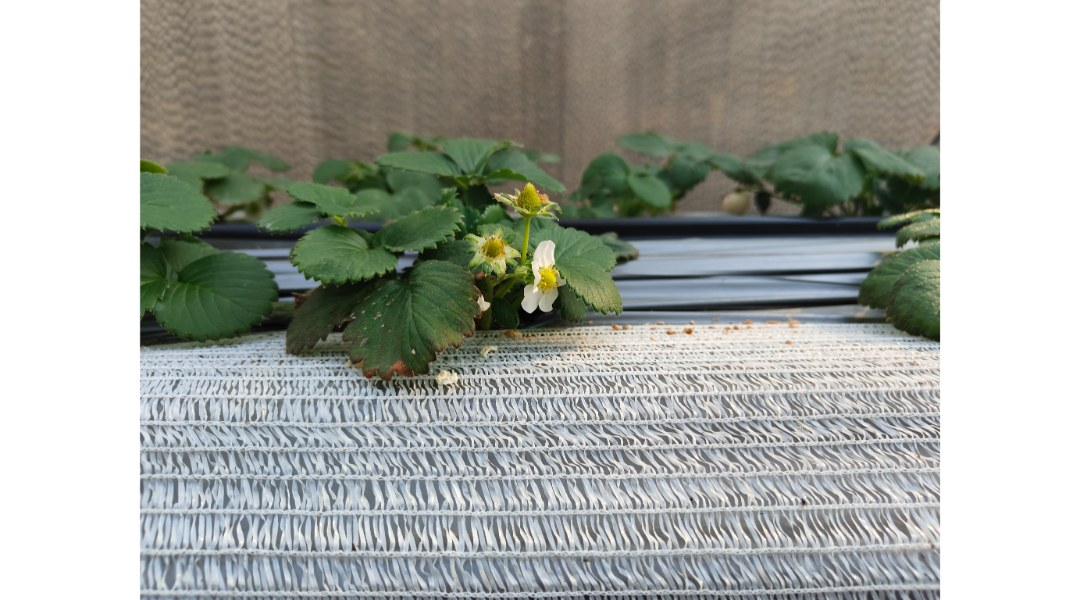berry: (513, 182, 544, 212)
flower: (521, 232, 566, 322)
strain: (518, 218, 530, 264)
